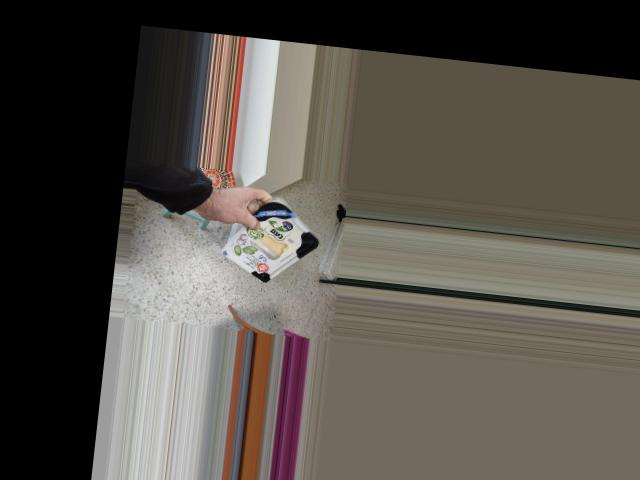cheese: (232, 174, 312, 291)
